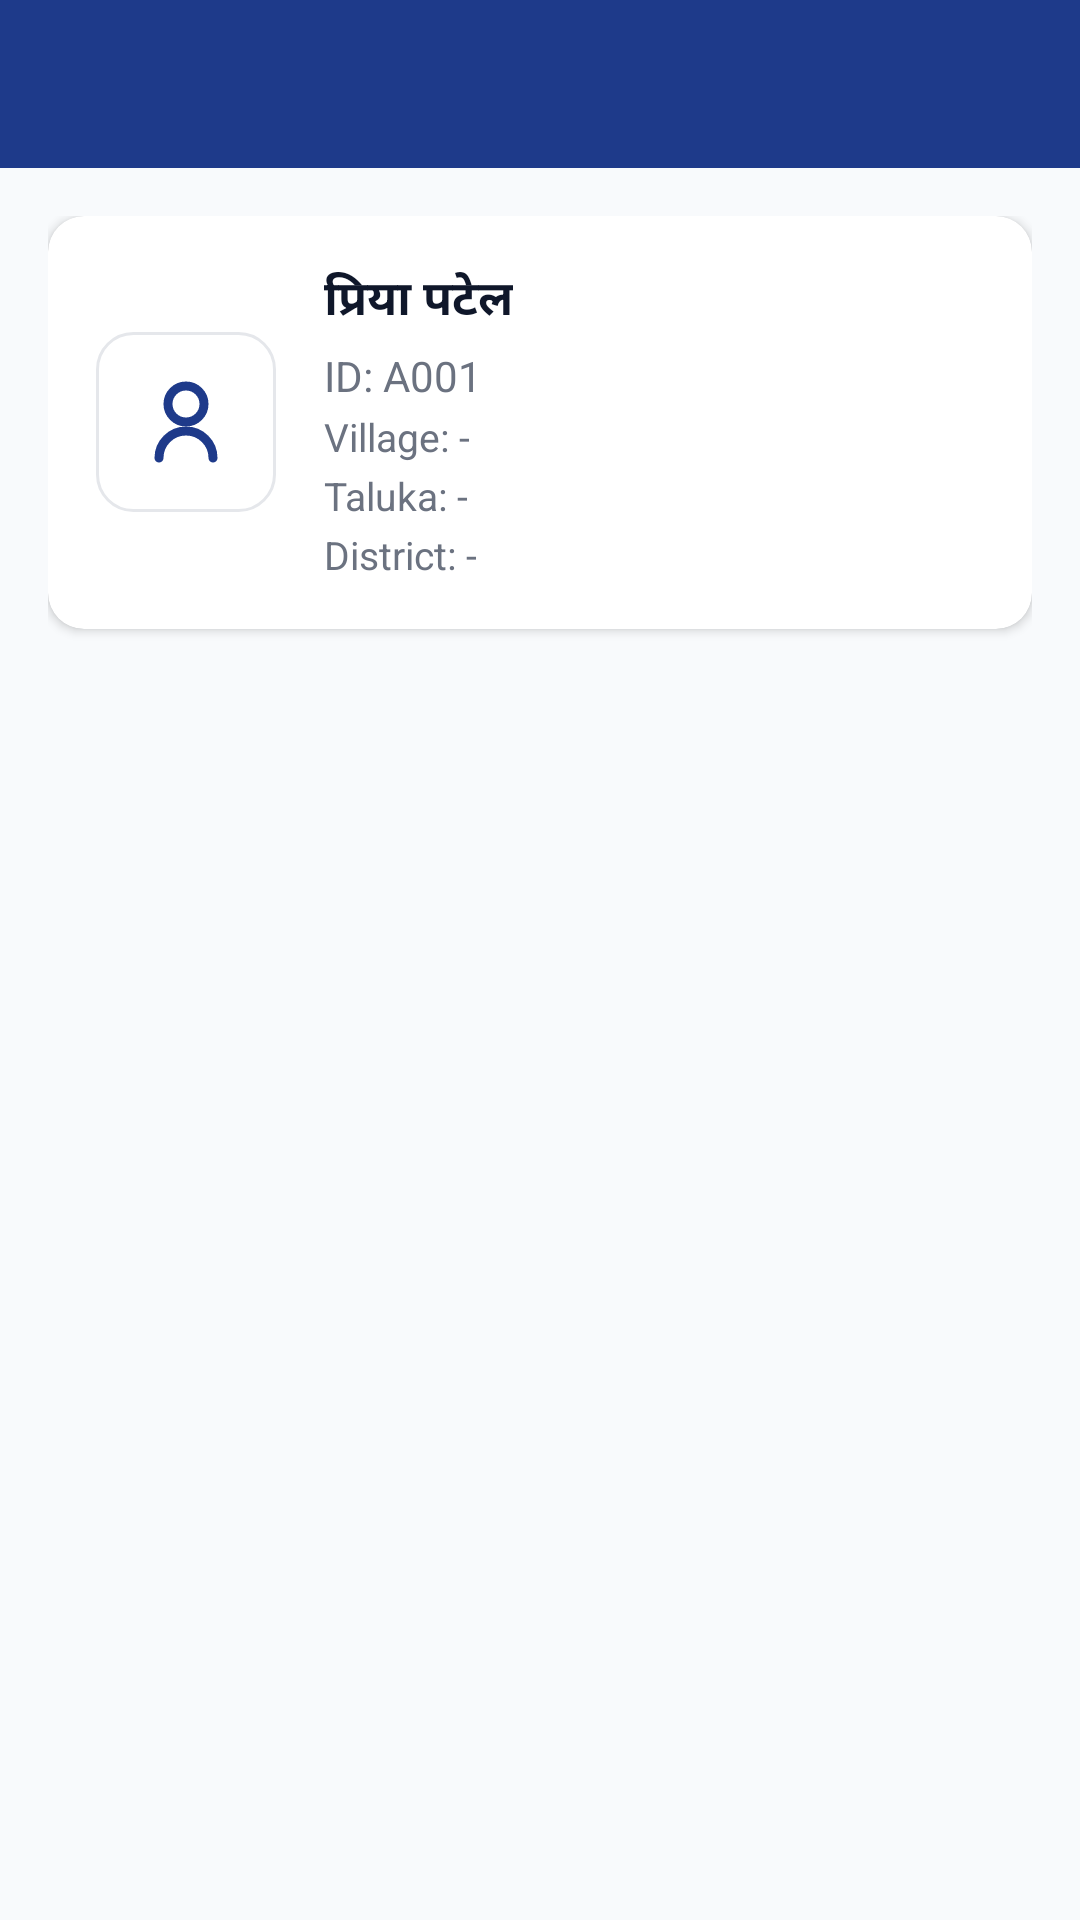

Named icons in this screenshot (1080px x 1920px) and their bounding boxes, (x1, y1, x2, y2):
ASHA profile photo: (96, 332, 276, 512)
